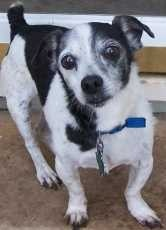Dog: (21, 16, 160, 223)
